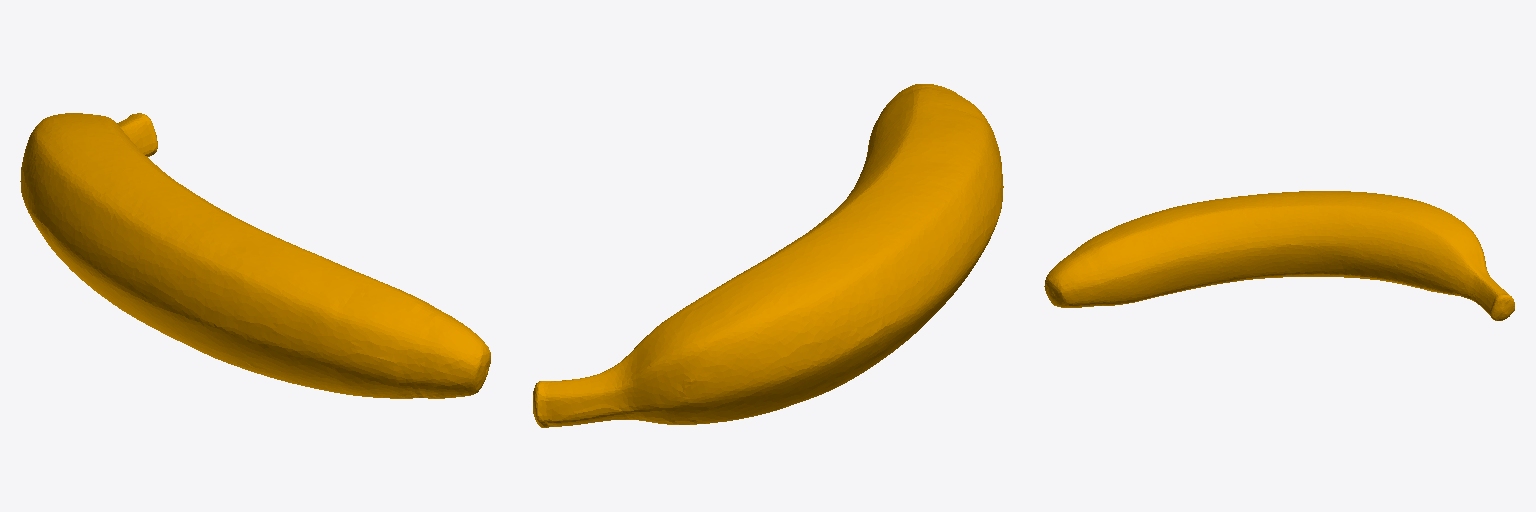
The robot description file, URDF, robot "root":
<robot name="root">
  <link name="link_original">
    <visual>
      <origin xyz="0 0 0" rpy="0 0 0"/>
      <geometry>
        <mesh filename="textured.obj" scale="1.0000E+00 1.0000E+00 1.0000E+00"/>
      </geometry>
    </visual>
    <inertial>
      <origin xyz="0 0 0" rpy="0 0 0"/>
      <mass value="1.7153E-01"/>
      <inertia ixx="4.07E-04" ixy="4.09E-05" ixz="3.12E-06" iyy="4.53E-05" iyz="-1.14E-06" izz="4.27E-04"/>
    </inertial>
    <collision>
      <origin xyz="0 0 0" rpy="0 0 0"/>
      <geometry>
        <mesh filename="coacd_allinone.obj" scale="1.0000E+00 1.0000E+00 1.0000E+00"/>
      </geometry>
    </collision>
  </link>
</robot>

--- What the picture shows (computed from the rendered views, not written in the file) ---
Views: 3 orthographic renders of the robot side by side, from view 1: azimuth 30°, elevation 25°; view 2: azimuth 150°, elevation 25°; view 3: azimuth 270°, elevation 25°.
Model root with 1 links and 0 joints (none), rooted at link_original, posed every joint at zero.
Visible links, largest first — view 1: link_original; view 2: link_original; view 3: link_original.
Boxes of the visible links, x1=… form: link_original: x1=20, y1=113, x2=490, y2=398; link_original: x1=533, y1=84, x2=1003, y2=427; link_original: x1=1044, y1=191, x2=1514, y2=320.
Bounding box of the posed robot: 0.069 × 0.1976 × 0.0366 m (x, y, z).
Meshes: 1 distinct files referenced, 1 mesh visuals loaded (1 OBJ).
